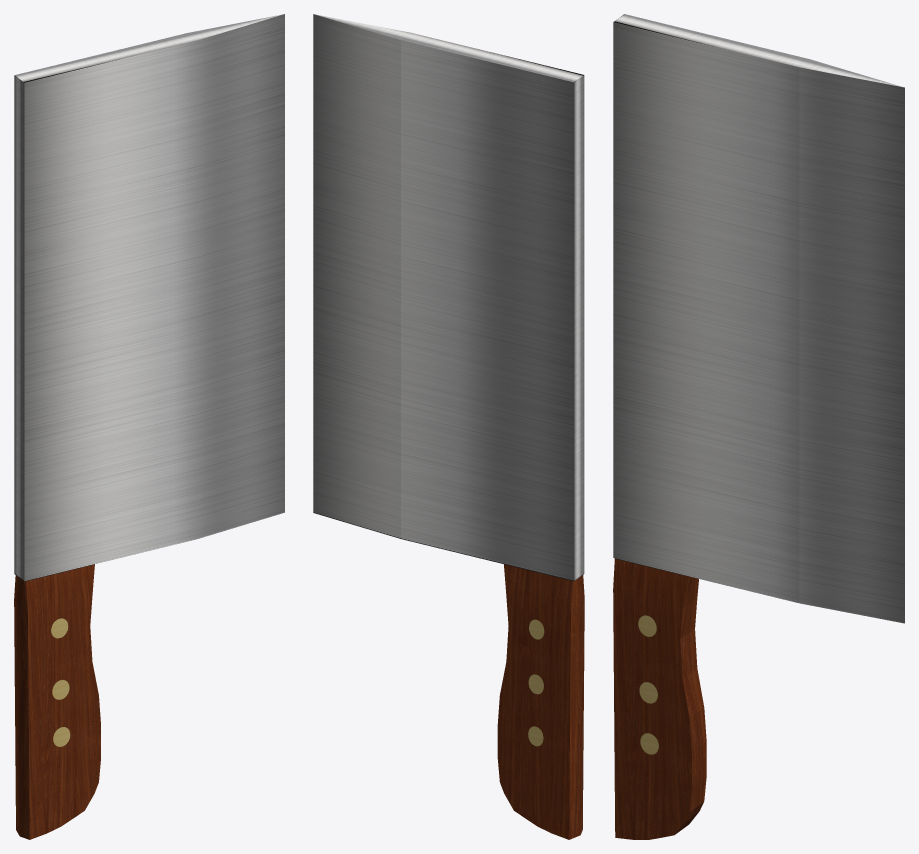
File: obj_chef_s_knife_0c8fe8.glb
The picture shows the model from 3 angles, left to right: view 1: azimuth 30°, elevation 25°; view 2: azimuth 150°, elevation 25°; view 3: azimuth 330°, elevation 25°; orthographic projection. The views are drawn at different scales.
Parts seen in each view (by area): view 1: obj_chef_s_knife_0c8fe8; view 2: obj_chef_s_knife_0c8fe8; view 3: obj_chef_s_knife_0c8fe8.
Boxes of the visible parts, left/top/right/bottom form: obj_chef_s_knife_0c8fe8: left=14, top=14, right=284, bottom=839; obj_chef_s_knife_0c8fe8: left=313, top=14, right=584, bottom=839; obj_chef_s_knife_0c8fe8: left=613, top=14, right=904, bottom=839.
Size of the model in its own units: 0.1187 by 0.32 by 0.0105.
Materials: 1 (1 with a texture image).
